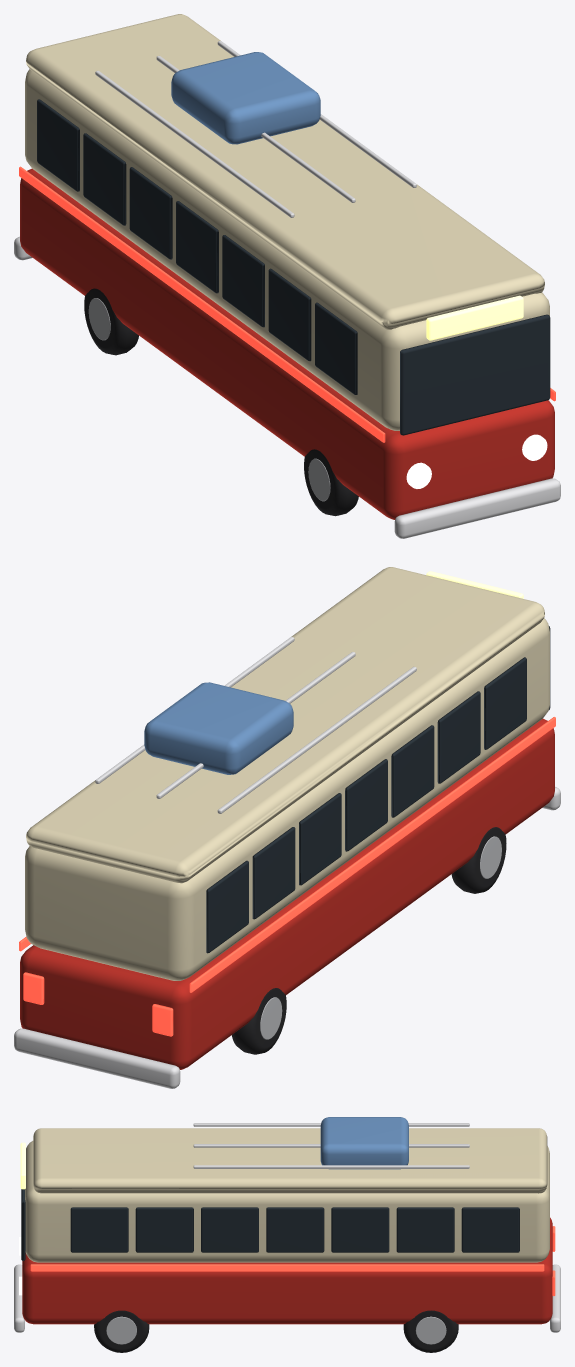
Rendered from bus-high.glb.
3 renders of one model, top to bottom at view 1: azimuth 30°, elevation 25°; view 2: azimuth 150°, elevation 25°; view 3: azimuth 270°, elevation 25°, orthographic. The views are drawn at different scales.
Visible parts, largest first — view 1: w-1-3.0; view 2: w-1-3.0; view 3: w-1-3.0.
Part boxes in pixels (x1,y1,x2,y2): w-1-3.0: (14, 14, 560, 538); w-1-3.0: (14, 567, 560, 1088); w-1-3.0: (14, 1117, 560, 1352).
Bounding box in the file's own units: 2.55 × 4 × 9.9.
